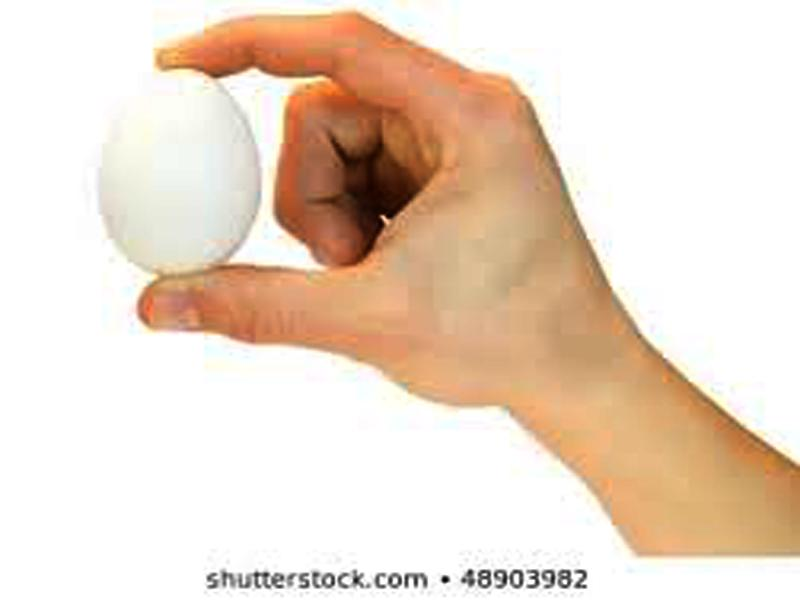Eggs: (102, 69, 261, 278)
